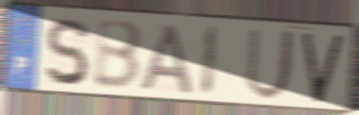A: (138, 21, 196, 96)
B: (92, 18, 145, 92)
I: (198, 23, 221, 99)
S: (43, 15, 91, 88)
U: (244, 26, 298, 103)
V: (300, 32, 346, 105)
